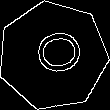O_W: (24, 31, 82, 81)
